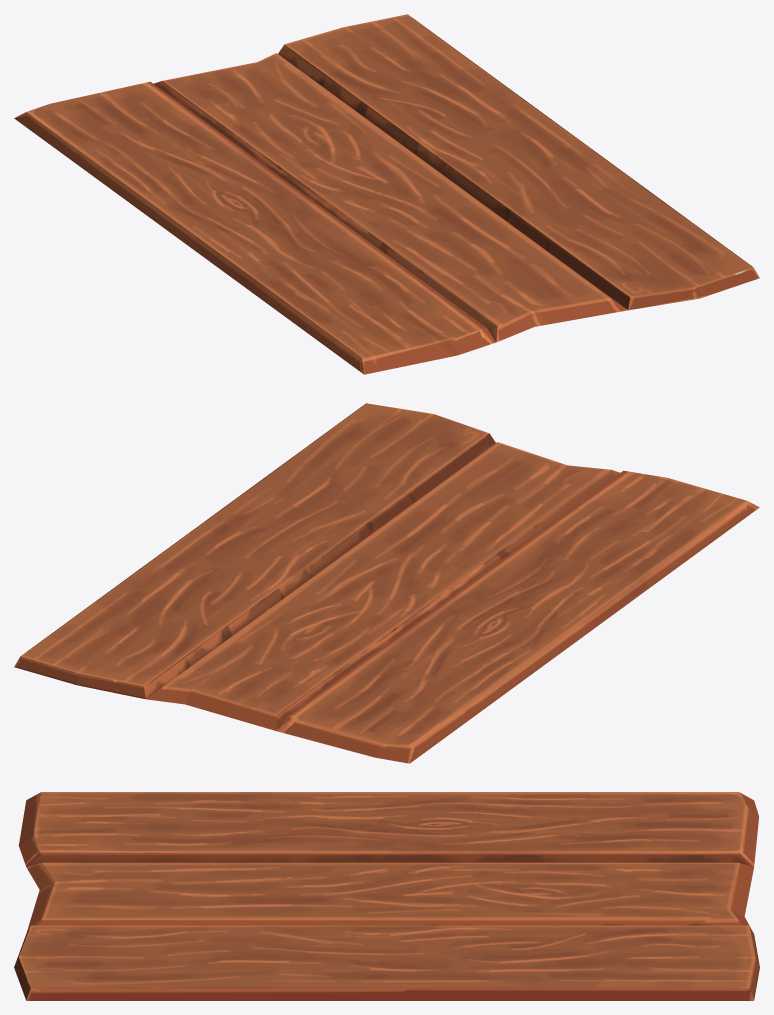
The model's file is LorebookTable.fbx.
3 views of the same model, one above another, from view 1: azimuth 30°, elevation 25°; view 2: azimuth 150°, elevation 25°; view 3: azimuth 270°, elevation 25° (orthographic). The views are drawn at different scales.
Parts seen in each view (by area): view 1: LorebookTable; view 2: LorebookTable; view 3: LorebookTable.
Boxes of the visible parts, box(x1,y1,x2,y2) form: LorebookTable: box(14, 14, 759, 374); LorebookTable: box(14, 403, 759, 763); LorebookTable: box(14, 792, 759, 1000).
Bounding box in the file's own units: 130 × 3.27 × 205.
Materials: 1 (1 with a texture image).
